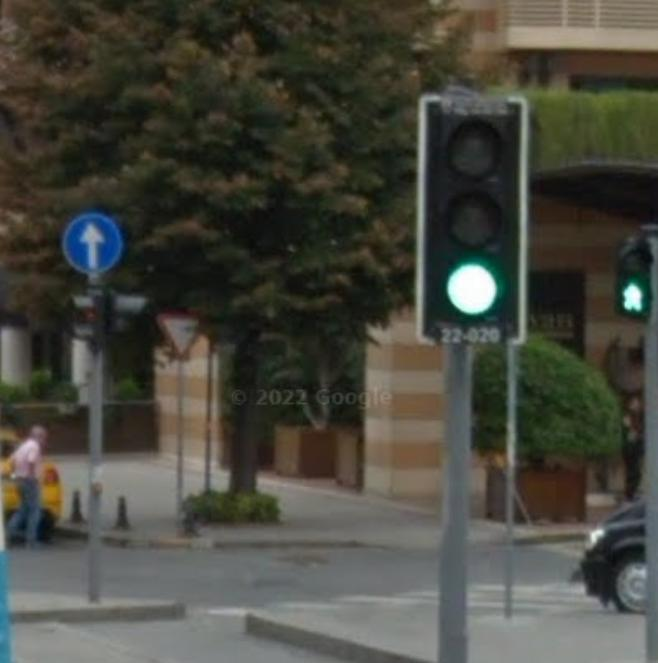greenlight: (405, 89, 537, 346)
